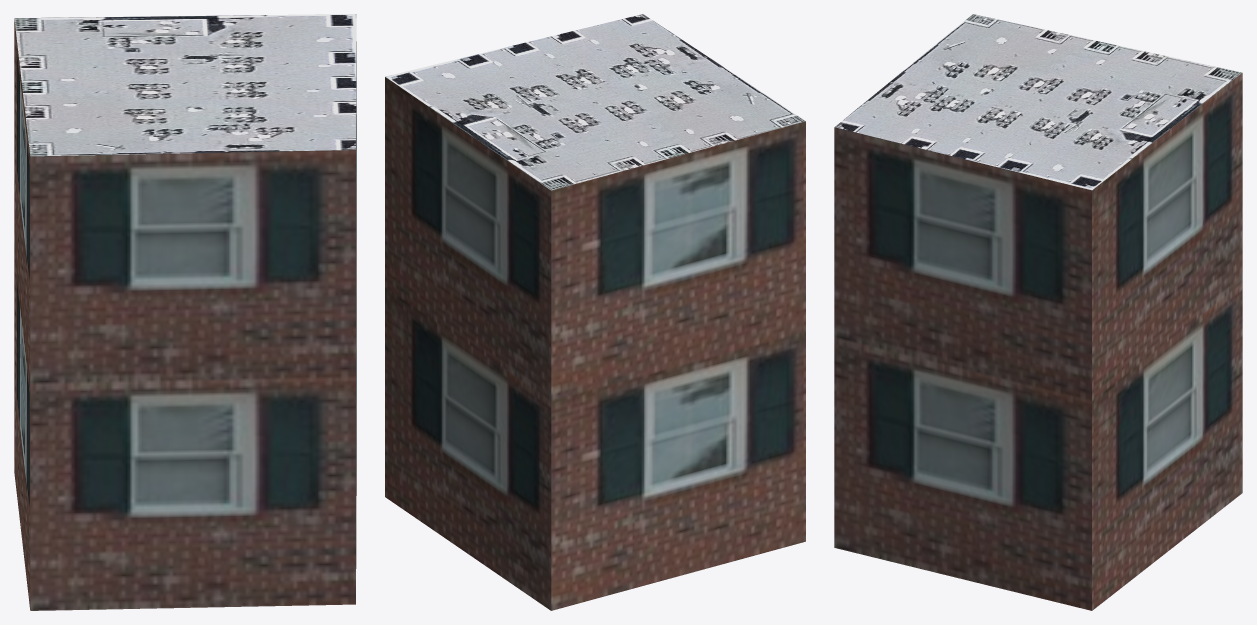
The model's file is ResTex__1940.fbx.
3 views of the same model, side by side, from view 1: azimuth 30°, elevation 25°; view 2: azimuth 150°, elevation 25°; view 3: azimuth 270°, elevation 25° (orthographic). The views are drawn at different scales.
Visible parts, largest first — view 1: CityEngineMaterial_14_m, CityEngineMaterial_8_m; view 2: CityEngineMaterial_14_m, CityEngineMaterial_8_m; view 3: CityEngineMaterial_14_m, CityEngineMaterial_8_m.
Boxes of the visible parts, bbox=[...] form: CityEngineMaterial_14_m: bbox=[14, 19, 356, 610]; CityEngineMaterial_8_m: bbox=[14, 14, 356, 156]; CityEngineMaterial_14_m: bbox=[385, 77, 805, 610]; CityEngineMaterial_8_m: bbox=[385, 14, 805, 190]; CityEngineMaterial_14_m: bbox=[834, 73, 1242, 610]; CityEngineMaterial_8_m: bbox=[835, 14, 1241, 190].
Bounding box in the file's own units: 5.4 × 6 × 5.28.
2 materials, 2 textured.
